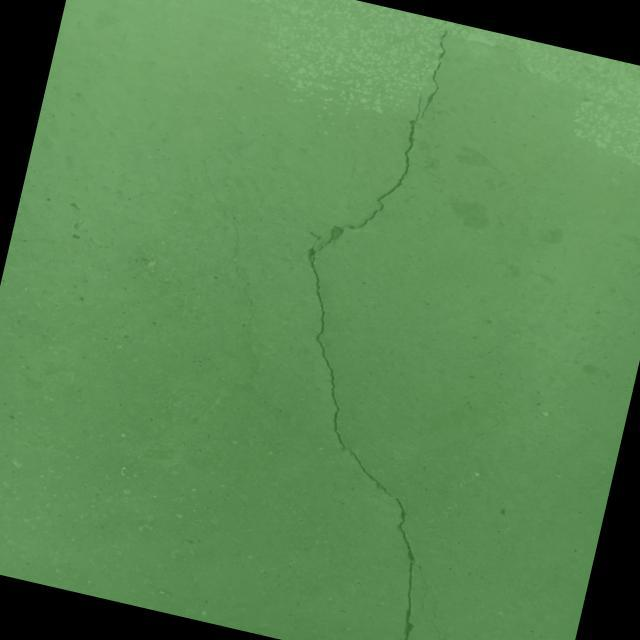crack: (205, 7, 588, 640), (188, 207, 302, 399), (192, 152, 238, 218), (218, 124, 228, 141)
